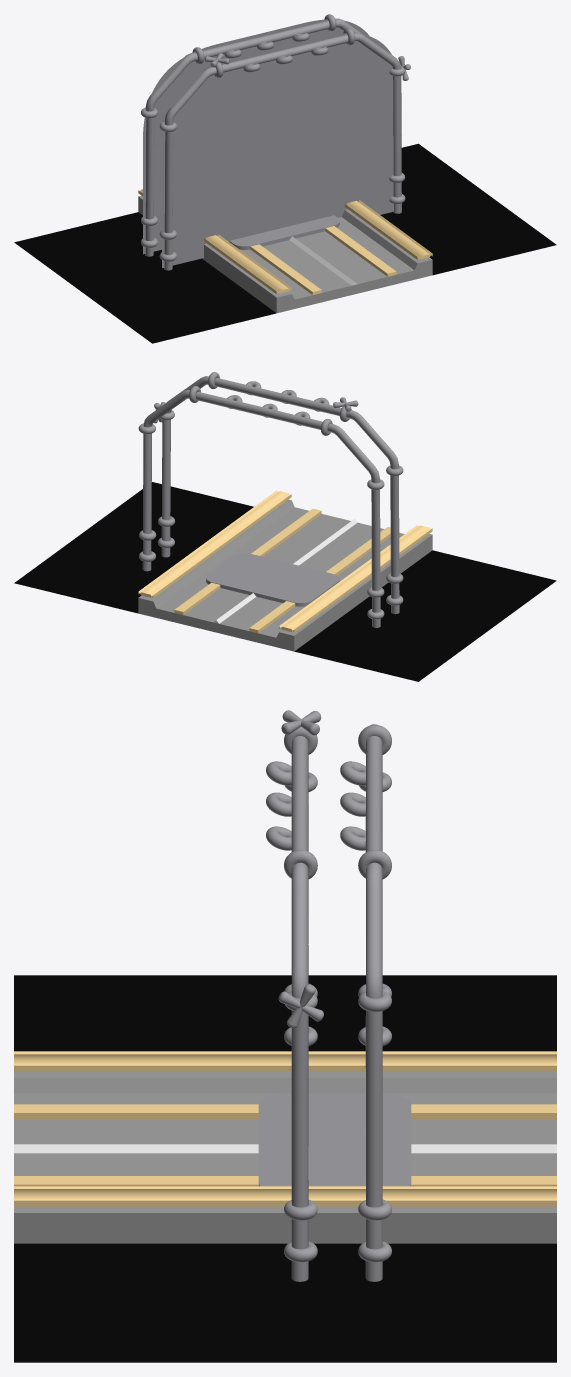
File: station__water-boog2.glb
3 views of the same model, one above another, from view 1: azimuth 30°, elevation 25°; view 2: azimuth 150°, elevation 25°; view 3: azimuth 270°, elevation 25° (orthographic). The views are drawn at different scales.
Visible parts, largest first — view 1: lottie_front, _basefloor, road, Shape (×2), lottie_back, road__top--left, Boolean, road__top--right, road__rail--left, road__rail--right, road__rail--middle; view 2: _basefloor, road, Shape (×2), Boolean, road__top--right, road__top--left, road__rail--right, road__rail--left, road__rail--middle; view 3: _basefloor, road, Shape (×2), Boolean, road__top--left, road__top--right, road__rail--left, road__rail--right, road__rail--middle.
Boxes of the visible parts, box(x1,y1,x2,y2) form: lottie_front: box(162, 33, 401, 267); _basefloor: box(14, 143, 556, 343); road: box(138, 195, 432, 313); Shape (×2): box(145, 18, 401, 270); lottie_back: box(143, 19, 369, 254); road__top--left: box(138, 189, 291, 294); Boolean: box(229, 215, 339, 249); road__top--right: box(344, 200, 432, 259); road__rail--left: box(250, 244, 321, 294); road__rail--right: box(325, 226, 396, 276); road__rail--middle: box(289, 236, 357, 285); _basefloor: box(14, 482, 556, 681); road: box(138, 499, 432, 651); Shape (×2): box(142, 376, 399, 627); Boolean: box(206, 553, 339, 606); road__top--right: box(138, 490, 291, 597); road__top--left: box(279, 525, 432, 632); road__rail--right: box(174, 508, 321, 614); road__rail--left: box(249, 527, 390, 633); road__rail--middle: box(213, 519, 357, 623); _basefloor: box(14, 975, 556, 1362); road: box(14, 1072, 556, 1243); Shape (×2): box(291, 724, 382, 1281); Boolean: box(258, 1093, 411, 1186); road__top--left: box(14, 1051, 556, 1071); road__top--right: box(14, 1186, 556, 1206); road__rail--left: box(14, 1104, 556, 1118); road__rail--right: box(14, 1176, 556, 1186); road__rail--middle: box(14, 1144, 556, 1153).
Size of the model in its own units: 10.8 by 5.17 by 6.4.
